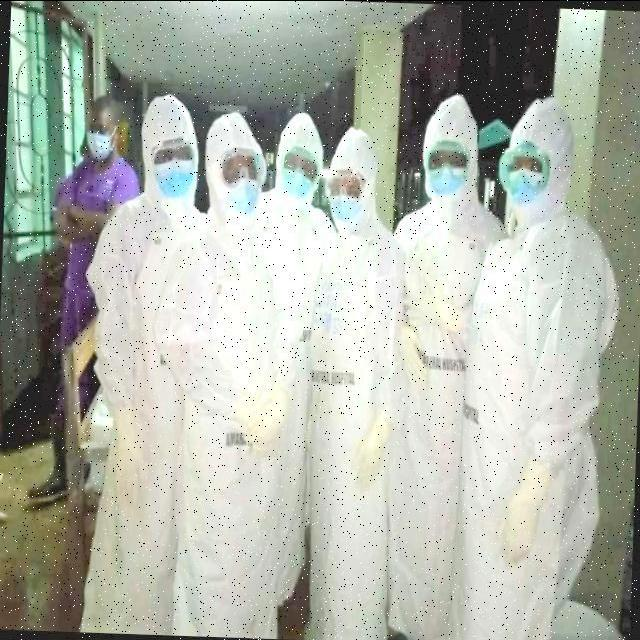apron: (490, 461, 570, 567), (224, 384, 296, 450), (408, 274, 474, 334), (376, 327, 439, 381), (352, 424, 394, 478)
